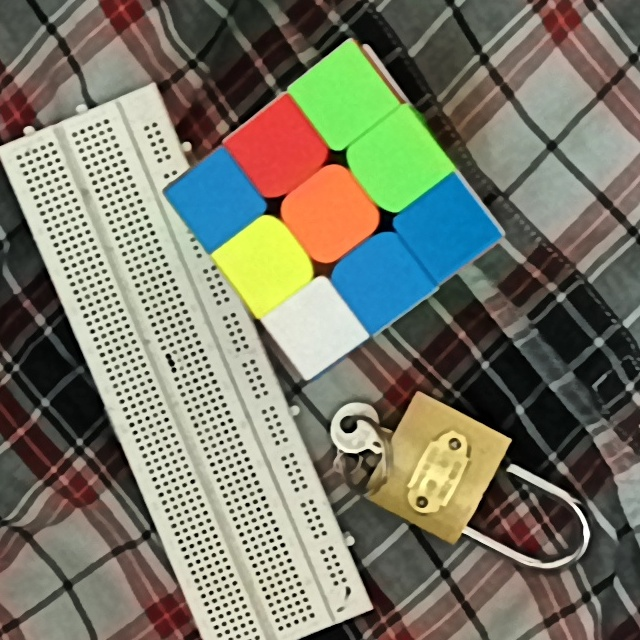tile: (364, 137, 427, 191), (246, 123, 308, 176), (311, 71, 373, 122), (416, 206, 478, 256), (281, 305, 345, 352), (233, 240, 294, 289), (302, 188, 359, 239), (353, 255, 408, 307), (187, 175, 239, 224)
